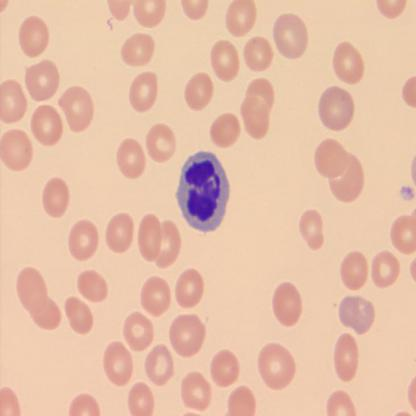NRC: (174, 148, 232, 236)
